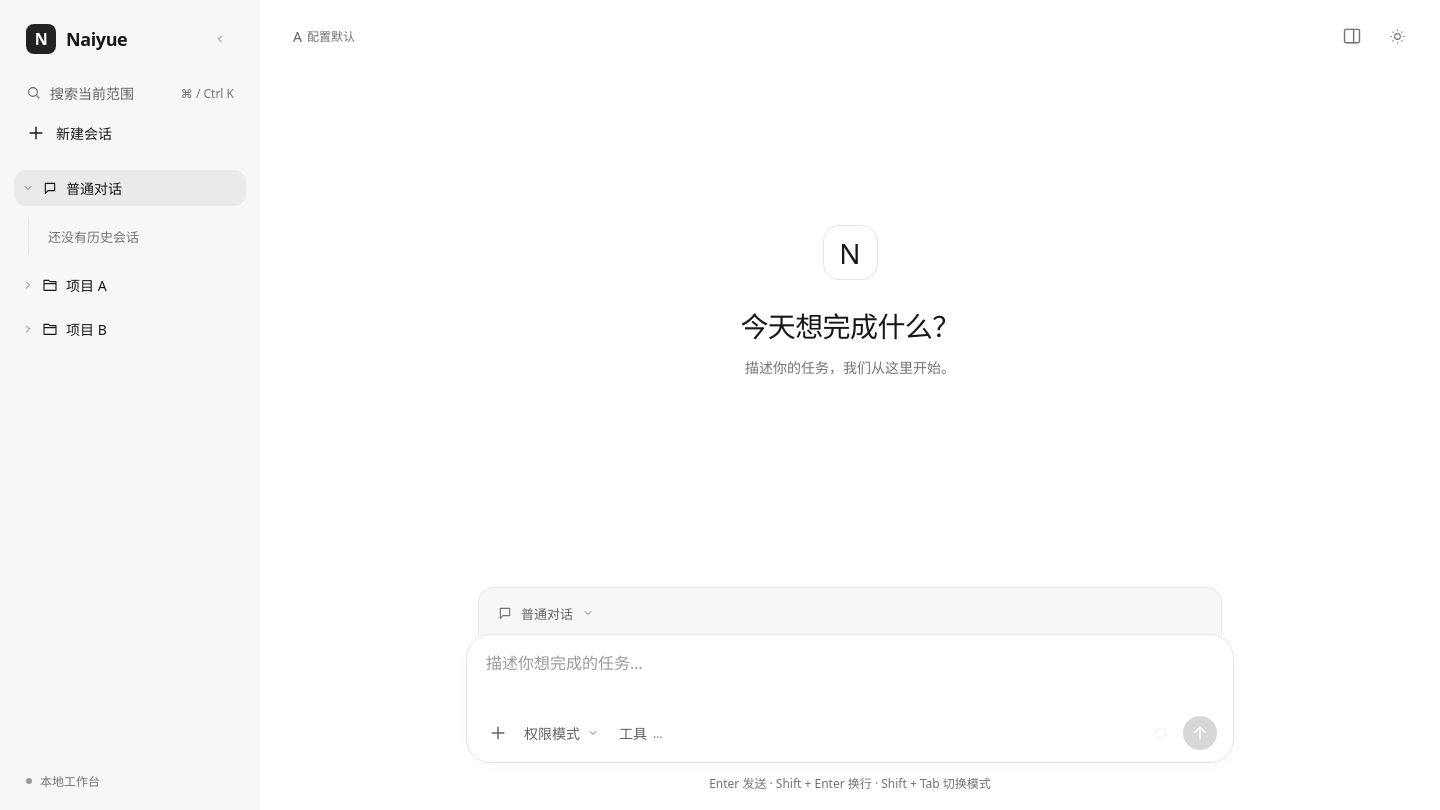
Test: shows saved pin markers while browsing another scope without opening its host
Click the button named "展开项目 A" at (28, 285), box [14, 267, 42, 303]
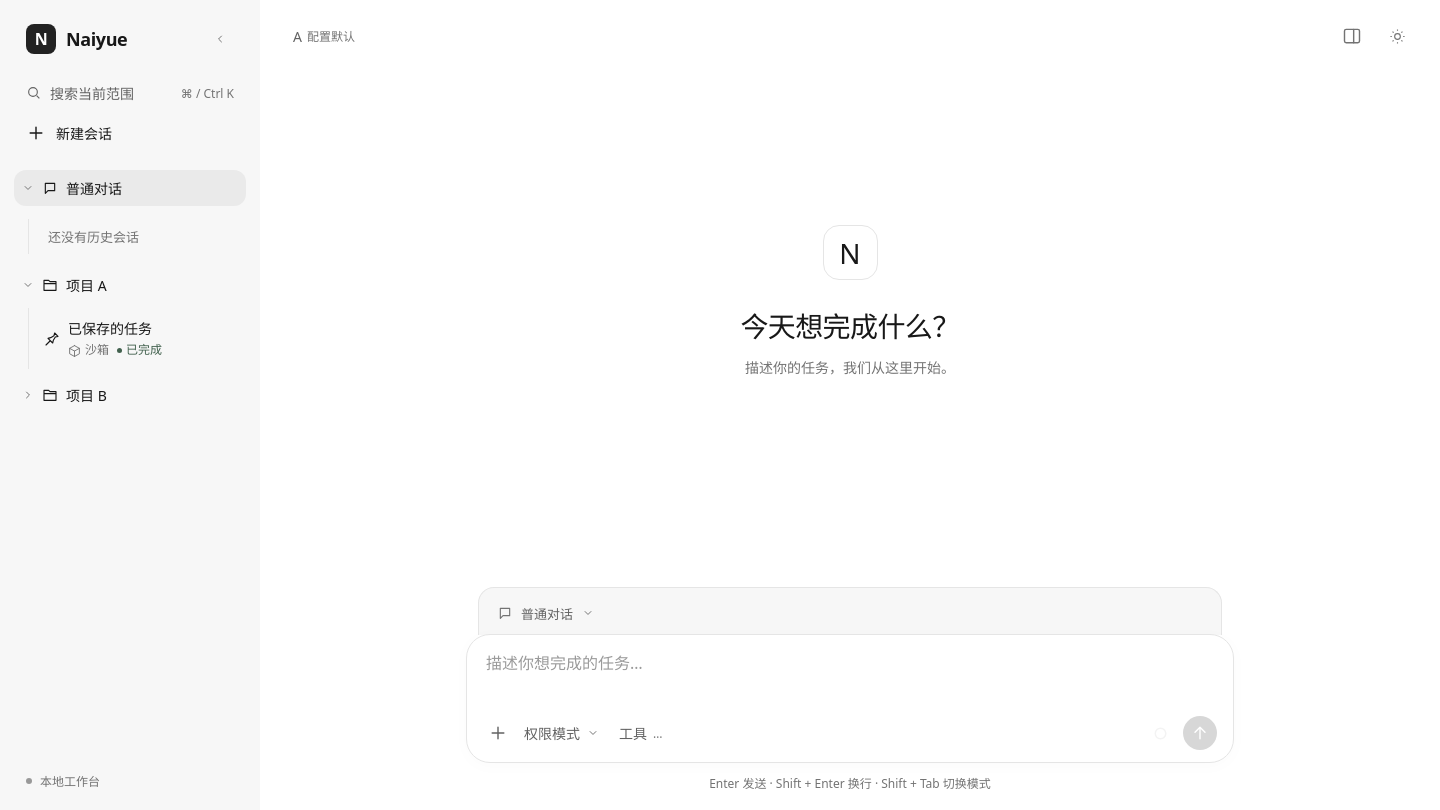
Result: the picture named "已置顶" is shown at [44, 330, 60, 346]
Result: the element named "执行位置：Docker 沙箱" is shown at [68, 341, 109, 359]
Result: the element named "任务状态：已完成" is shown at [117, 341, 162, 359]
